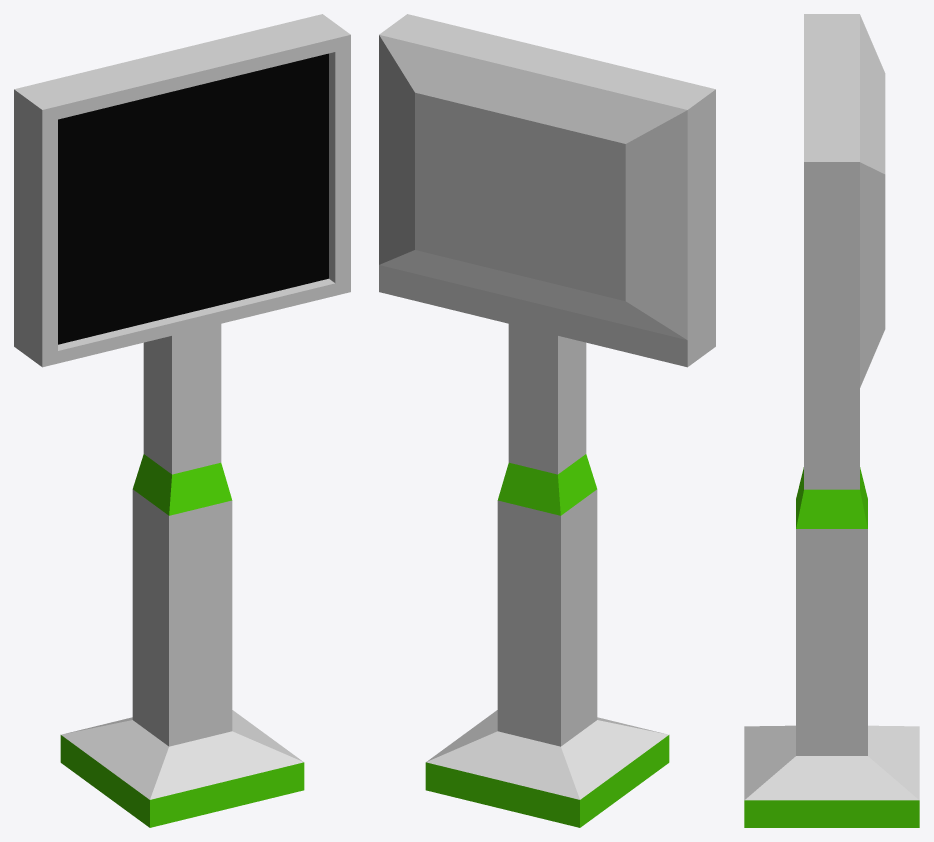
Rendered from ECGMonitor.fbx.
The picture shows the model from 3 angles, left to right: view 1: azimuth 30°, elevation 25°; view 2: azimuth 150°, elevation 25°; view 3: azimuth 270°, elevation 25°; orthographic projection.
Visible parts, largest first — view 1: ECGMonitor; view 2: ECGMonitor; view 3: ECGMonitor.
Boxes of the visible parts, x1,y1,x2,y2 form: ECGMonitor: (14,14,350,827); ECGMonitor: (379,14,715,827); ECGMonitor: (744,14,919,827).
Size of the model in its own units: 400 by 885 by 200.
